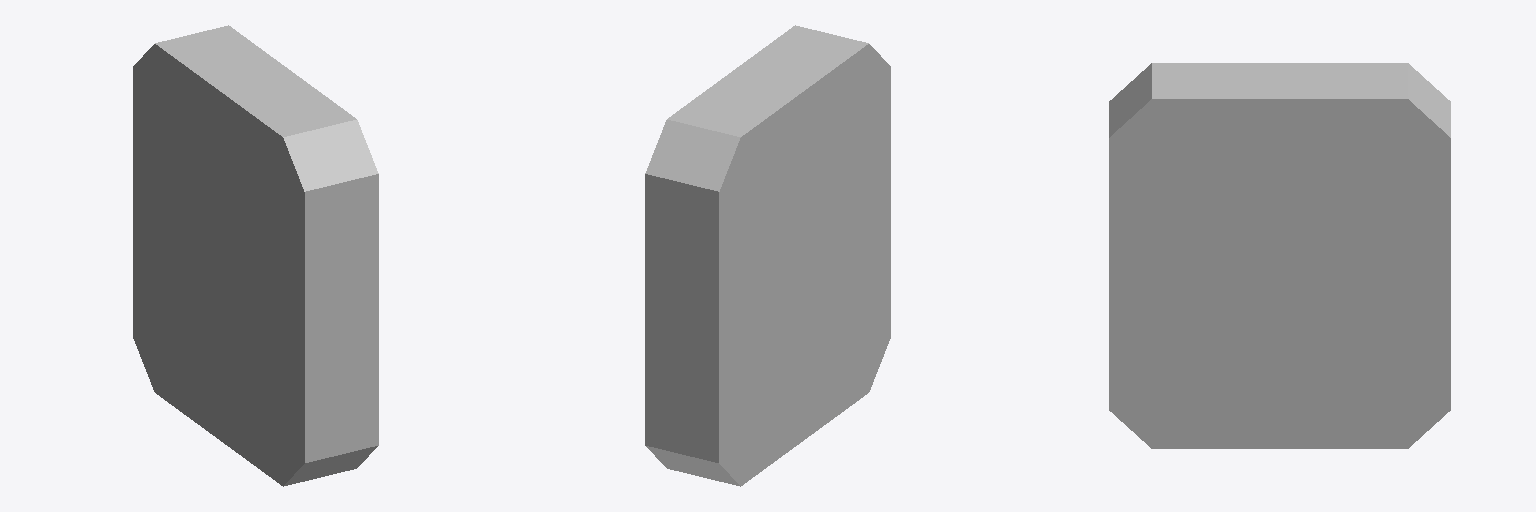
File: supercharger.obj
The picture shows the model from 3 angles: view 1: azimuth 30°, elevation 25°; view 2: azimuth 150°, elevation 25°; view 3: azimuth 270°, elevation 25°; orthographic projection.
Visible parts, largest first — view 1: slot952, slot1002, slot1006; view 2: slot952, slot1005, slot1006, slot1004; view 3: slot1, slot1006, slot1002.
Boxes of the visible parts, x1,y1,x2,y2 form: slot952: [133, 44, 304, 485]; slot1002: [283, 120, 378, 486]; slot1006: [155, 25, 356, 136]; slot952: [719, 44, 890, 485]; slot1005: [645, 174, 718, 462]; slot1006: [645, 25, 868, 191]; slot1004: [646, 446, 740, 486]; slot1: [1109, 99, 1450, 448]; slot1006: [1152, 63, 1450, 137]; slot1002: [1109, 63, 1151, 137].
Bounding box in the file's own units: 4 × 18 × 16.